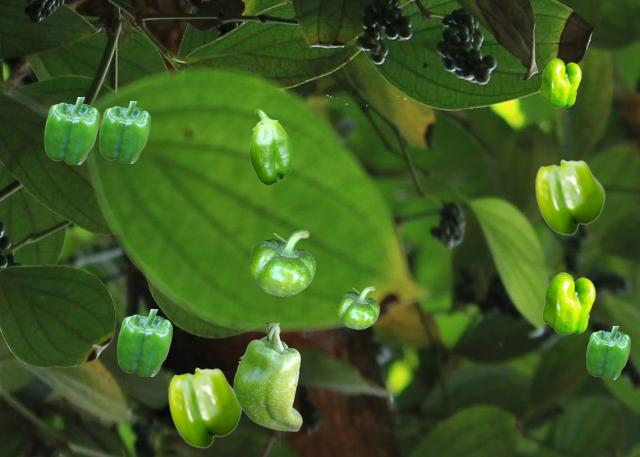bell_pepper: (233, 323, 301, 430), (168, 367, 241, 447), (535, 159, 604, 234), (249, 229, 314, 295), (117, 309, 171, 375), (44, 97, 98, 163), (542, 272, 594, 333), (249, 109, 291, 184), (99, 101, 149, 162), (586, 326, 629, 378), (540, 58, 580, 106), (336, 285, 378, 328)
